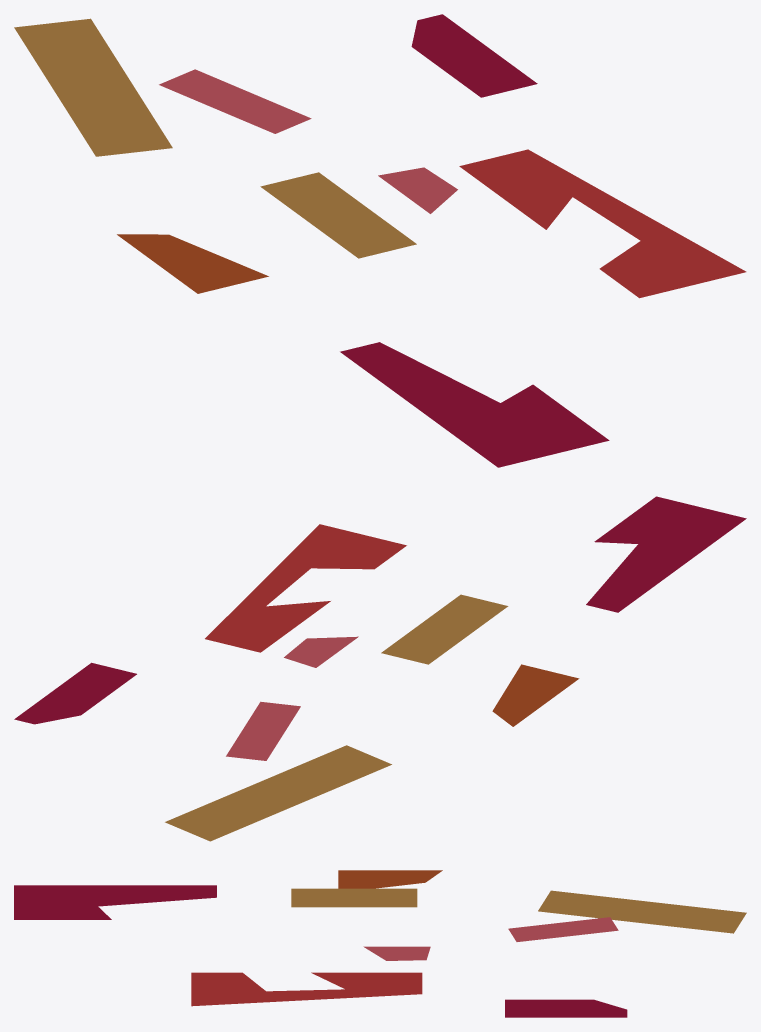
Rendered from Leaves_1.fbx.
3 views of the same model, one above another, from view 1: azimuth 30°, elevation 25°; view 2: azimuth 150°, elevation 25°; view 3: azimuth 270°, elevation 25° (orthographic). The views are drawn at different scales.
Parts seen in each view (by area): view 1: pPlane7; view 2: pPlane7; view 3: pPlane7.
Part boxes in pixels (x1,y1,x2,y2): pPlane7: (14,14,746,467); pPlane7: (14,496,746,841); pPlane7: (14,870,746,1017).
Size of the model in its own units: 37.12 by 2.41 by 78.23.
